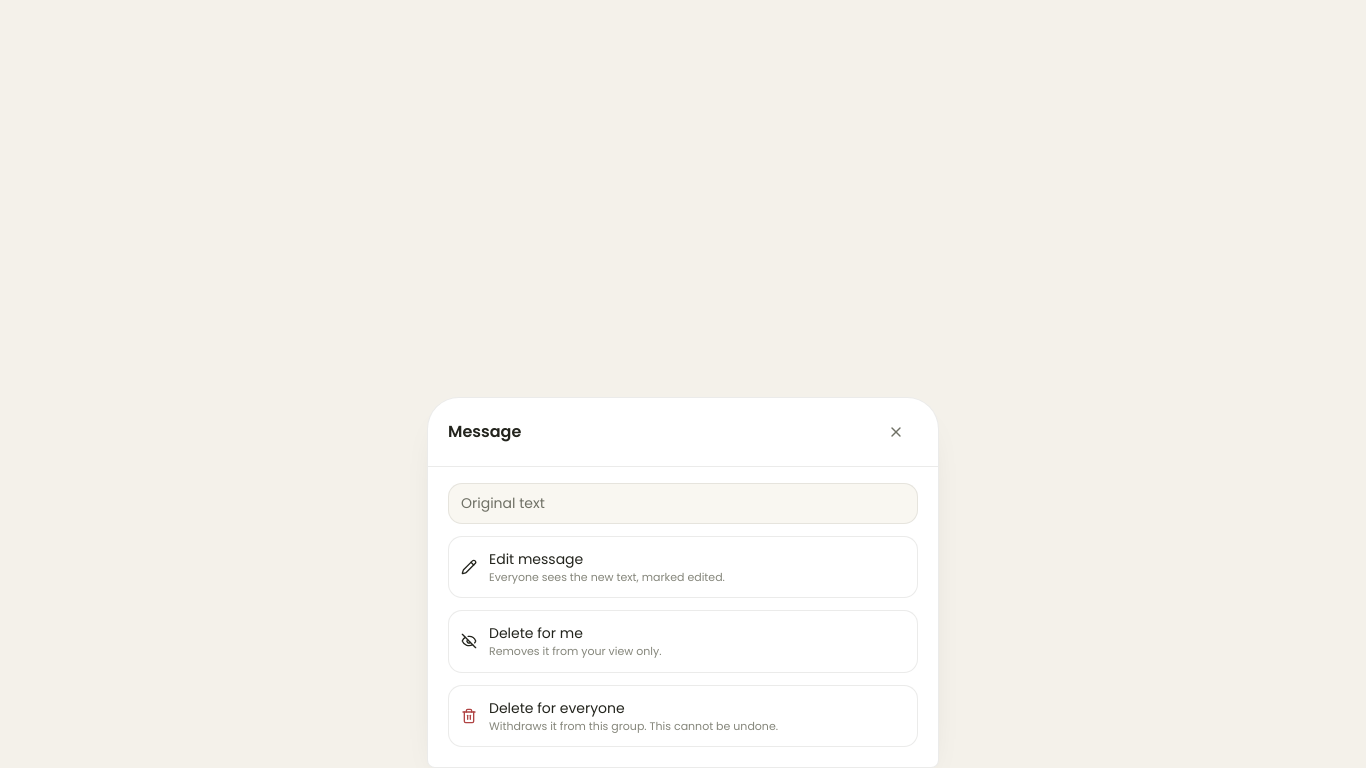
Test: MessageActionsSheet › surfaces a refused change instead of closing
Click the button "Edit message Everyone sees the new text, marked edited." at {"x": 683, "y": 567}, box left=448, top=536, right=918, bottom=598
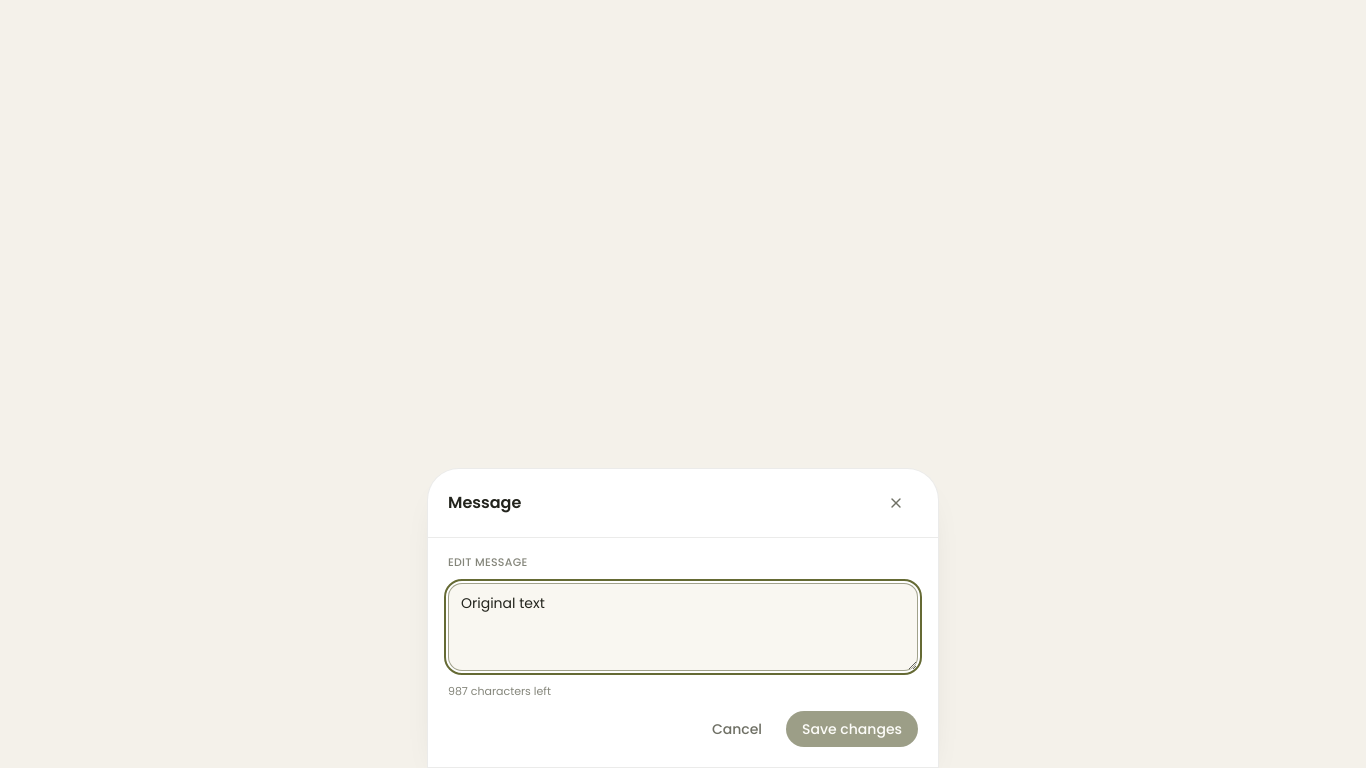
Replace the text in the text box labelled "Edit message" with "Trying again" at {"x": 683, "y": 626}, box left=448, top=582, right=918, bottom=670
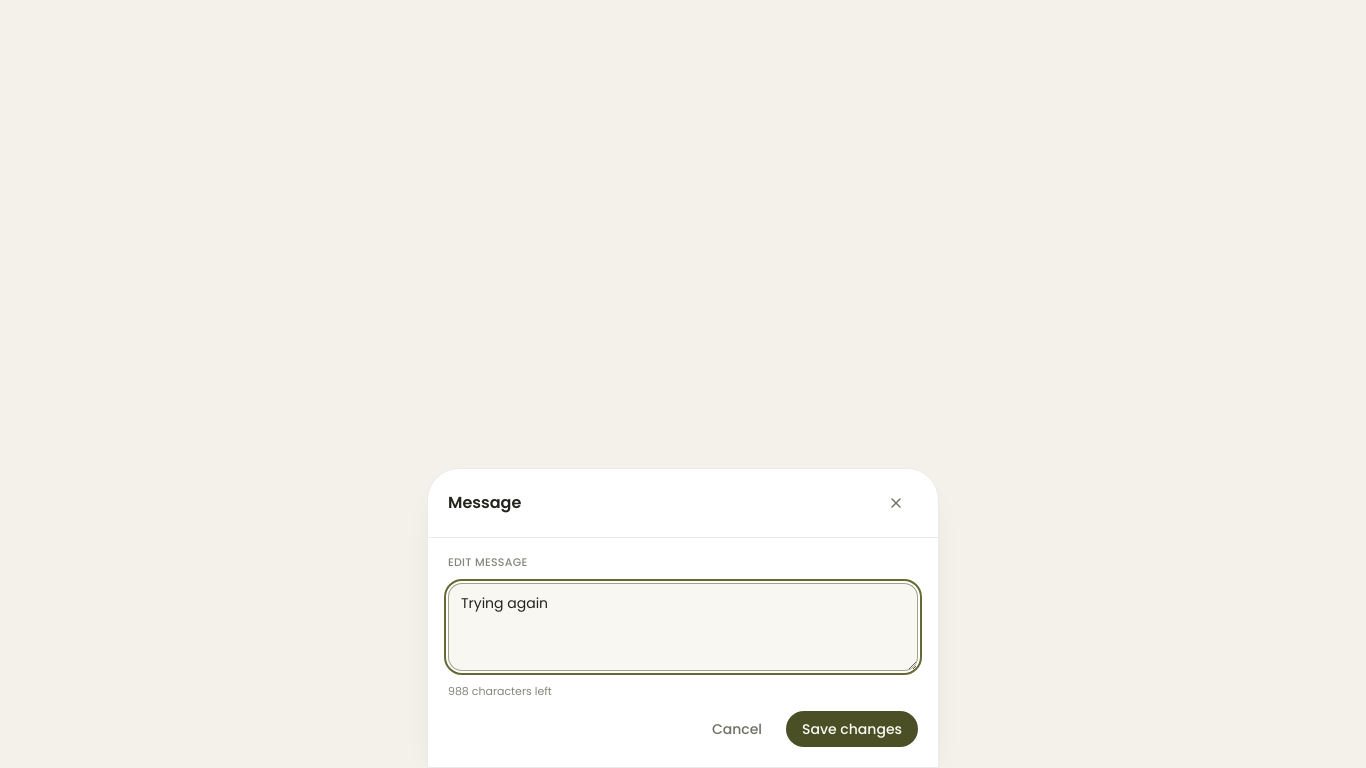
Click the button "Save changes" at {"x": 852, "y": 729}, box left=786, top=711, right=918, bottom=747
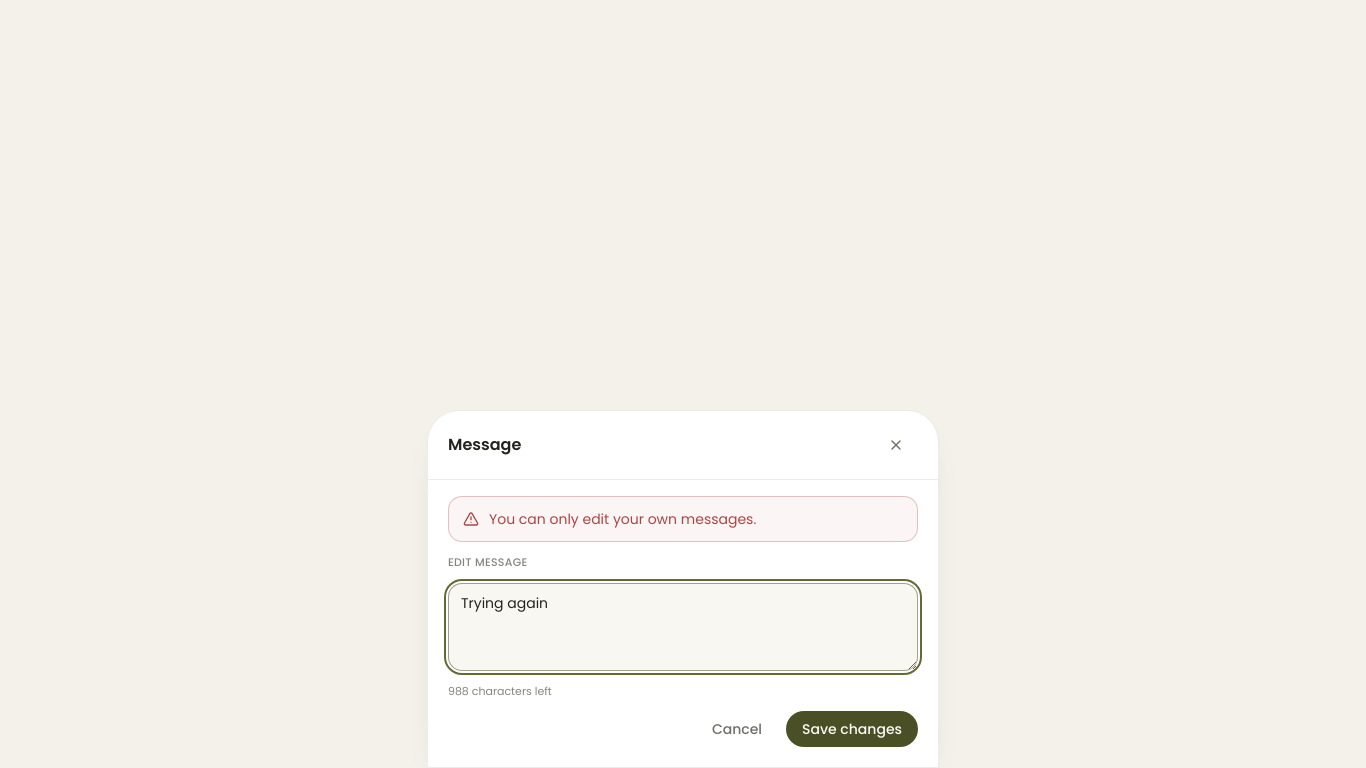
Check: the text "You can only edit your own messages." is shown, box left=489, top=509, right=756, bottom=529
